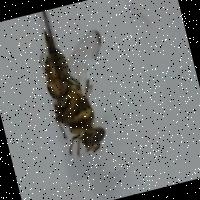Oriental-fruit-fly: (0, 0, 164, 191)
